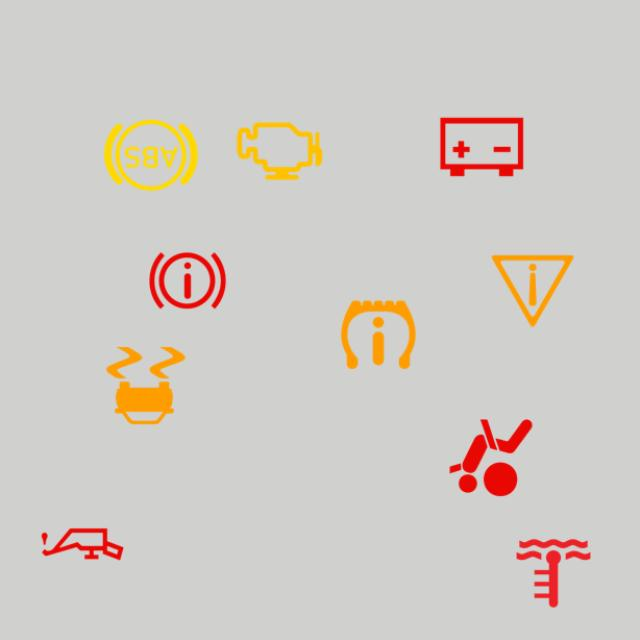Anti Lock Braking System: (100, 105, 202, 206)
Braking System Issue: (136, 230, 238, 332)
Charging System Issue: (430, 96, 532, 198)
Check Engine: (228, 100, 330, 202)
Electronic Stability Problem -ESP-: (95, 334, 197, 436)
Engine Overheating Warning Light: (502, 522, 604, 624)
Low Engine Oil Warning Light: (32, 493, 134, 595)
Low Tire Pressure Warning Light: (328, 284, 430, 386)
Master warning light: (482, 240, 584, 342)
SRS-Airbag: (440, 406, 542, 508)
